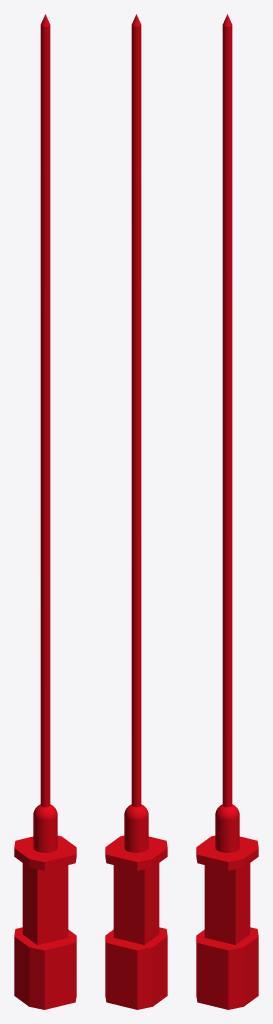
Rendered from needle.dae.
The picture shows the model from 3 angles, left to right: view 1: azimuth 30°, elevation 25°; view 2: azimuth 150°, elevation 25°; view 3: azimuth 330°, elevation 25°; orthographic projection.
Parts seen in each view (by area): view 1: needle; view 2: needle; view 3: needle.
Boxes of the visible parts, left/top/right/bottom form: needle: left=14, top=14, right=76, bottom=1009; needle: left=105, top=14, right=167, bottom=1009; needle: left=196, top=14, right=258, bottom=1009.
Size of the model in its own units: 9.2 by 9.8 by 181.
